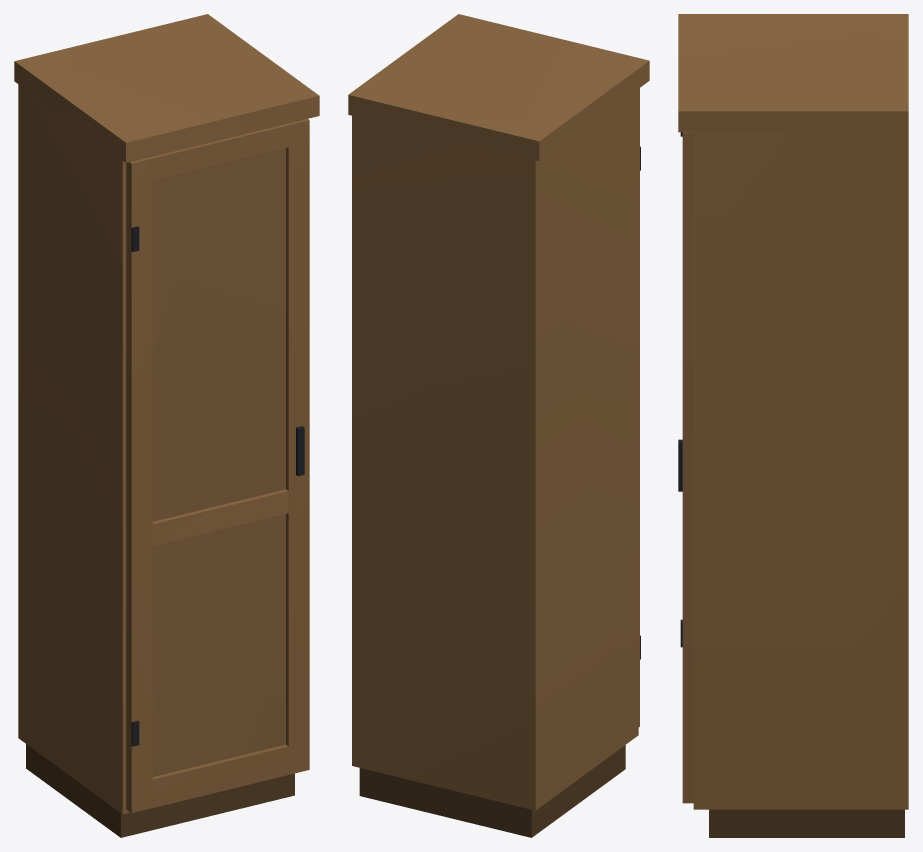
File: cabinet.closet.oak_left.glb
3 views of the same model, side by side, from view 1: azimuth 30°, elevation 25°; view 2: azimuth 150°, elevation 25°; view 3: azimuth 270°, elevation 25° (orthographic). The views are drawn at different scales.
Visible parts, largest first — view 1: cabinet_closet_oak_left; view 2: cabinet_closet_oak_left; view 3: cabinet_closet_oak_left.
Boxes of the visible parts, x1,y1,x2,y2 form: cabinet_closet_oak_left: (14, 14, 319, 837); cabinet_closet_oak_left: (348, 14, 649, 837); cabinet_closet_oak_left: (678, 14, 908, 837).
Size of what is drawn, in the model's own units: 0.6 by 2.1 by 0.6.
